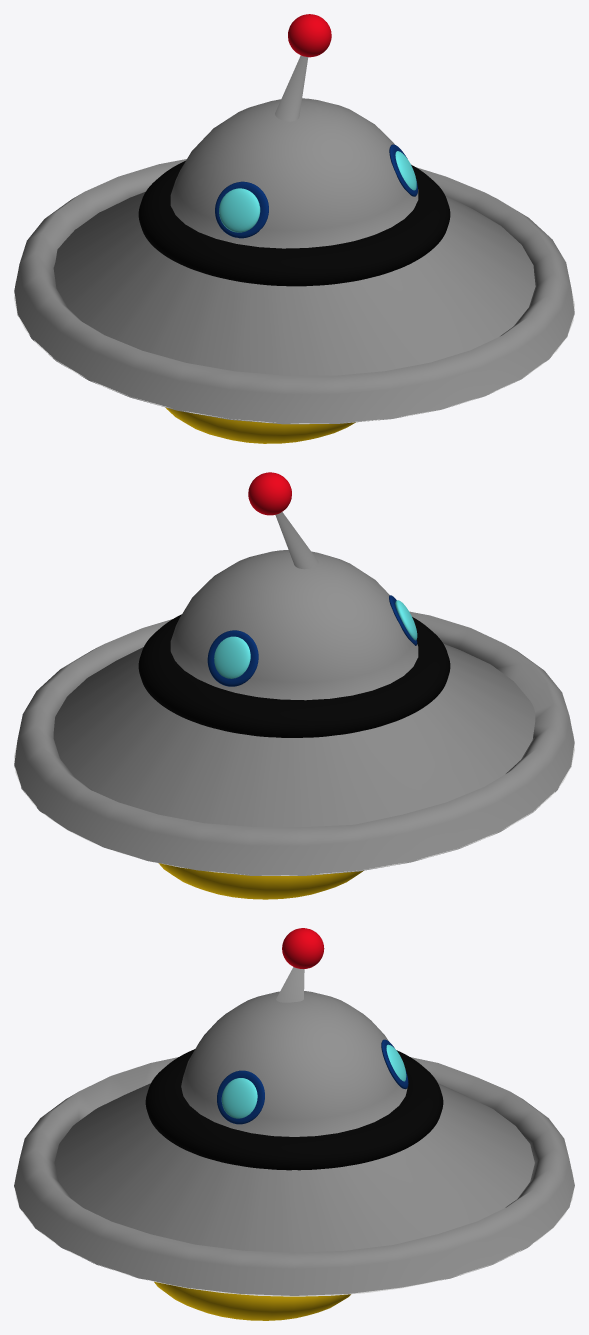
File: UFO.fbx
3 renders of one model, top to bottom at view 1: azimuth 30°, elevation 25°; view 2: azimuth 150°, elevation 25°; view 3: azimuth 270°, elevation 25°, orthographic. The views are drawn at different scales.
Parts seen in each view (by area): view 1: 球, トーラス.007, 球.003, 球.006, 球.002, トーラス.003, トーラス.001; view 2: 球, トーラス.007, 球.003, 球.006, 球.002, トーラス.003, トーラス.001; view 3: 球, トーラス.007, 球.003, 球.006, 球.002, トーラス.003, トーラス.001.
Part boxes in pixels (<box>): 球: <box>14,55,574,424</box>; トーラス.007: <box>138,160,450,286</box>; 球.003: <box>165,407,355,443</box>; 球.006: <box>219,151,416,232</box>; 球.002: <box>288,14,331,57</box>; トーラス.003: <box>215,144,417,238</box>; トーラス.001: <box>14,281,574,423</box>; 球: <box>14,512,574,875</box>; トーラス.007: <box>138,614,450,737</box>; 球.003: <box>158,863,363,899</box>; 球.006: <box>214,600,417,678</box>; 球.002: <box>248,472,291,515</box>; トーラス.003: <box>207,595,417,686</box>; トーラス.001: <box>14,733,574,875</box>; 球: <box>14,967,574,1295</box>; トーラス.007: <box>145,1049,443,1170</box>; 球.003: <box>154,1282,350,1320</box>; 球.006: <box>221,1044,406,1118</box>; 球.002: <box>282,928,324,968</box>; トーラス.003: <box>217,1039,408,1124</box>; トーラス.001: <box>14,1170,573,1296</box>.
Bounding box in the file's own units: 4.4 × 2.99 × 4.68.
